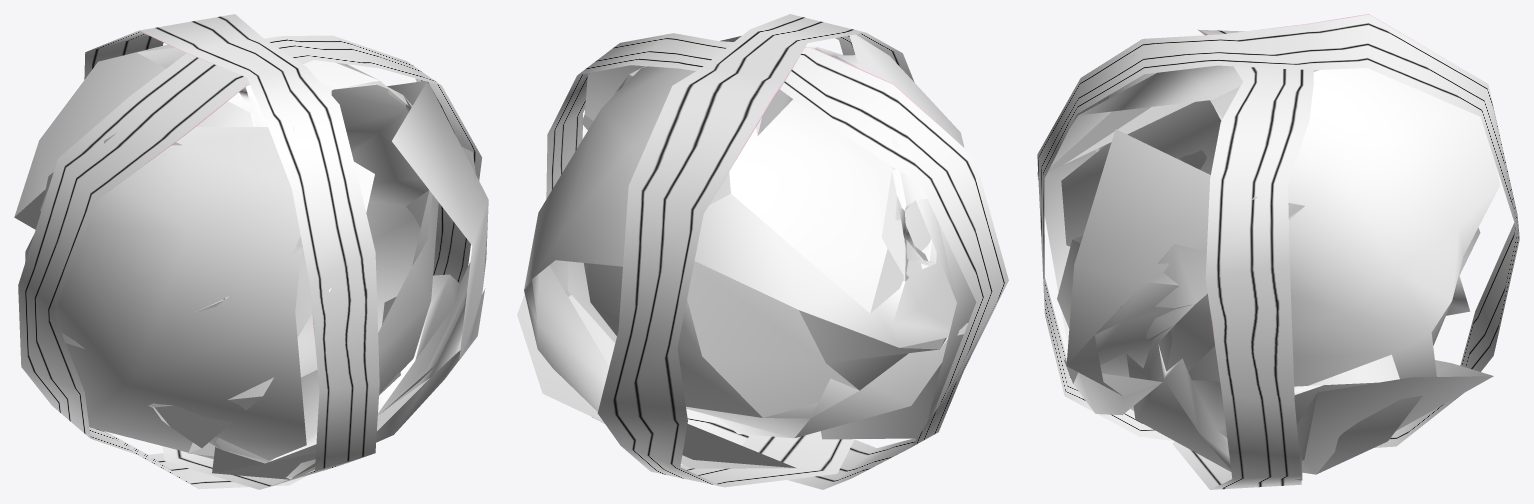
File: TrashGrenade.fbx
3 views of the same model, side by side, from view 1: azimuth 30°, elevation 25°; view 2: azimuth 150°, elevation 25°; view 3: azimuth 270°, elevation 25° (orthographic). The views are drawn at different scales.
Parts seen in each view (by area): view 1: TrashGrenade; view 2: TrashGrenade; view 3: TrashGrenade.
Part boxes in pixels (bbox=[...]): TrashGrenade: bbox=[14, 14, 488, 489]; TrashGrenade: bbox=[517, 14, 1008, 489]; TrashGrenade: bbox=[1037, 14, 1519, 489].
Bounding box in the file's own units: 113 × 102 × 109.
